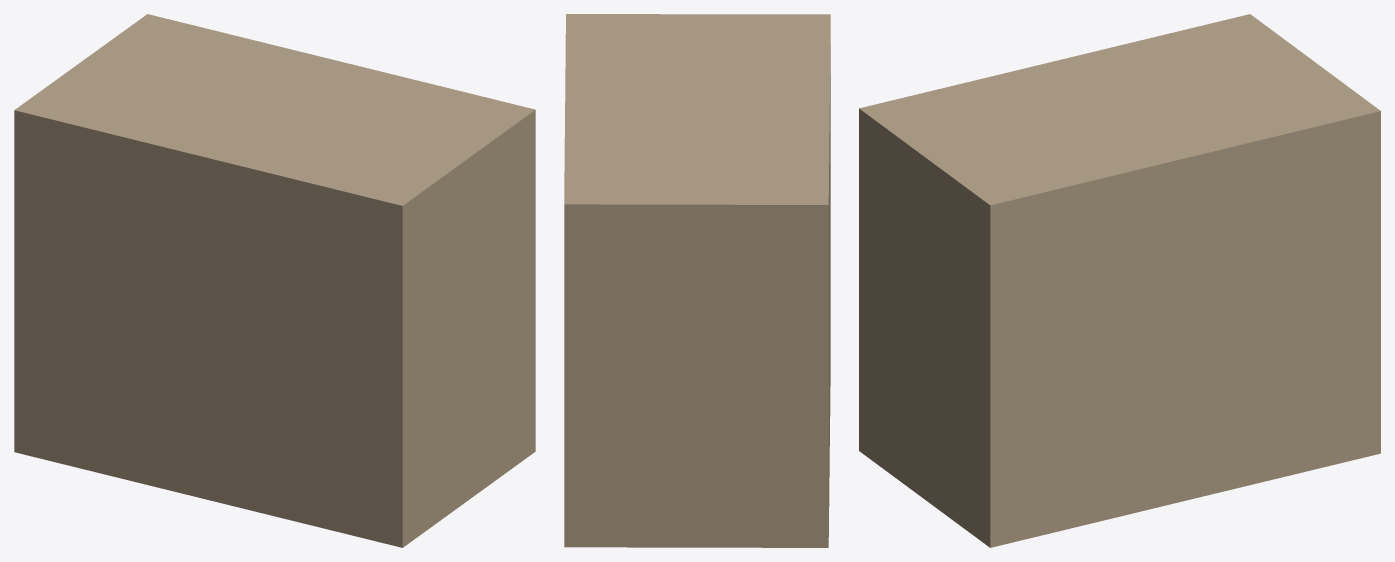
File: bld_100469526.dae
3 renders of one model, left to right at view 1: azimuth 30°, elevation 25°; view 2: azimuth 150°, elevation 25°; view 3: azimuth 270°, elevation 25°, orthographic.
Visible parts, largest first — view 1: bld_100469526; view 2: bld_100469526; view 3: bld_100469526.
Boxes of the visible parts, box(x1,y1,x2,y2) form: bld_100469526: box(14, 14, 535, 547); bld_100469526: box(564, 14, 830, 547); bld_100469526: box(859, 14, 1380, 547).
Size of the model in its own units: 9.59 by 11.05 by 8.
